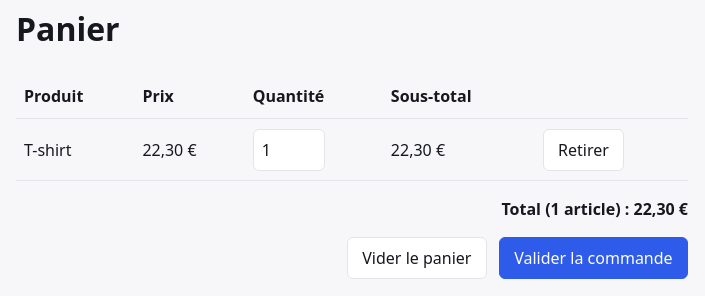
Scenario: CartPage › plafonne la quantité saisie à 99
This screenshot has width=705, height=296.
Replace the text in the number field named "quantité pour t-shirt" with "150" at (289, 150), box [253,129,325,171]
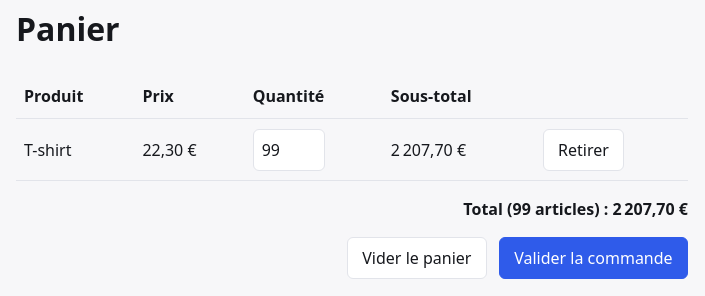
expect the number field named "quantité pour t-shirt" holds "99": met, box [253,129,325,171]
